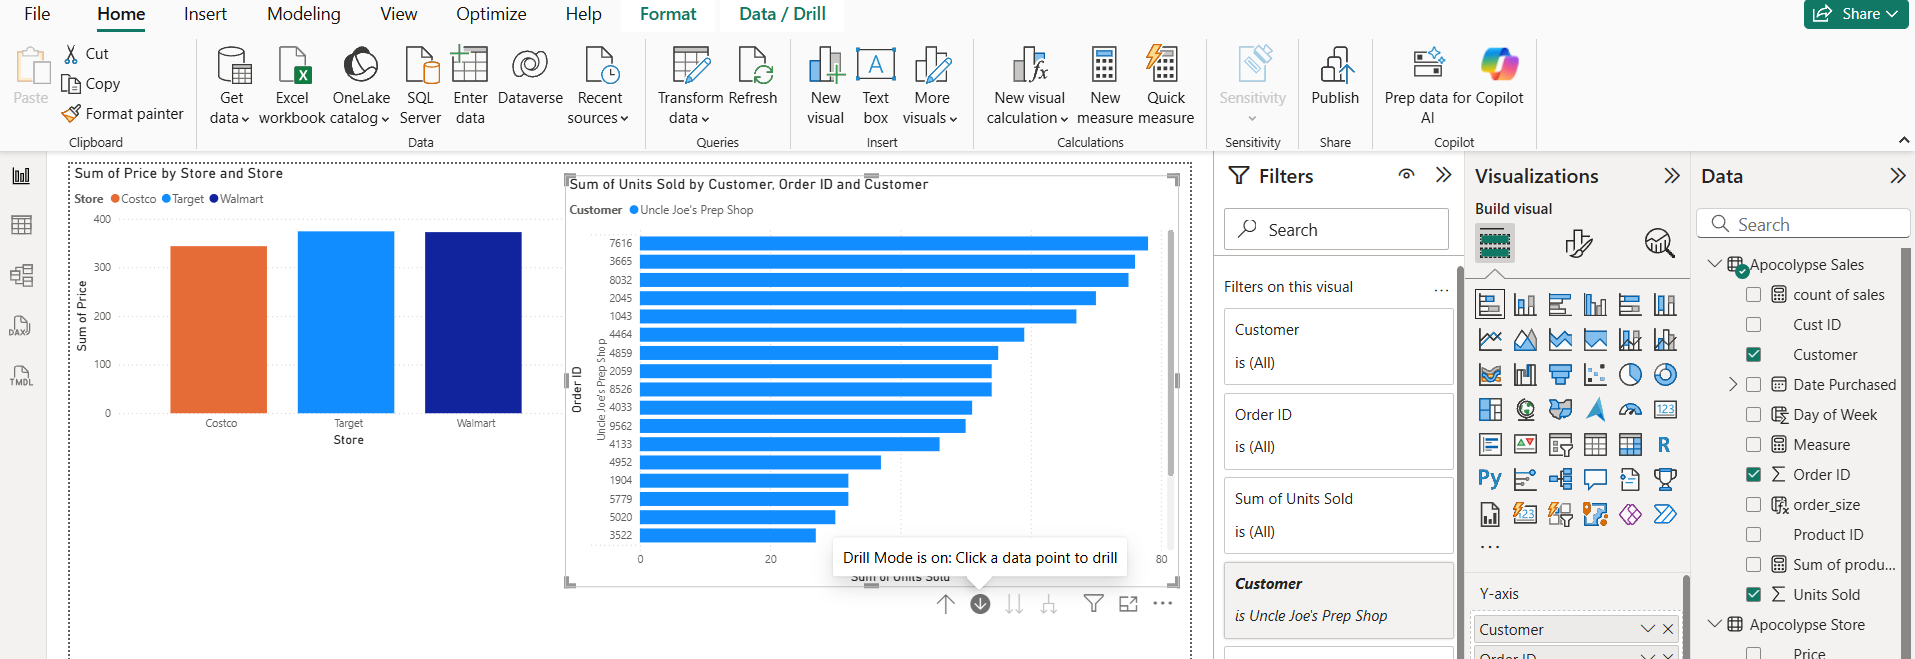

The dashboard page shown, as its layout file describes it:
{"tool":"powerbi","page":{"name":"Page 2","canvas":[1280,720],"ordinal":1},"visuals":[{"type":"columnChart","fields":{"Y":["Sum(Purchase Tracker.Price)"],"Category":["Purchase Tracker.Store","Purchase Tracker.Product"],"Series":["Purchase Tracker.Store"]},"box":[0,0,585.7,328.6],"z":0},{"type":"barChart","fields":{"Category":["Apocolypse Sales.Customer","Apocolypse Sales.Order ID"],"Y":["Sum(Apocolypse Sales.Units Sold)"],"Series":["Apocolypse Sales.Customer"]},"box":[565.7,12.9,701.4,291.4],"z":1},{"type":"clusteredColumnChart","fields":{"Y":["CountNonNull(Customer Buyer Information.Buyer ID)"],"Category":["Customer Buyer Information.Age (bins)","Customer Buyer Information.Age"]},"box":[0,338.6,535.7,330],"z":2},{"type":"tableEx","fields":{"Values":["Apocolypse Sales.Customer (List)","Sum(Apocolypse Sales.Units Sold)"]},"box":[585.7,305.7,315.7,110],"z":3},{"type":"tableEx","fields":{"Values":["Apocolypse Store.Product Name","Apocolypse Store.Price","Sum(Apocolypse Sales.Units Sold)"]},"box":[881.4,412.9,398.6,307.1],"z":4}]}

Visuals, with their boxes on the page's 1280x720 design canvas (x1, y1, x2, y2). These are canvas units, not pixel positions in the 1915x659 screenshot, which may show the page scaled, cropped or inside an application window:
columnChart - Sum(Purchase Tracker.Price) x Purchase Tracker.Store: bbox(0, 0, 586, 329)
barChart - Apocolypse Sales.Customer x Apocolypse Sales.Order ID: bbox(566, 13, 1267, 304)
clusteredColumnChart - CountNonNull(Customer Buyer Information.Buyer ID) x Customer Buyer Information.Age (bins): bbox(0, 339, 536, 669)
tableEx - Apocolypse Sales.Customer (List) x Sum(Apocolypse Sales.Units Sold): bbox(586, 306, 901, 416)
tableEx - Apocolypse Store.Product Name x Apocolypse Store.Price: bbox(881, 413, 1280, 720)
